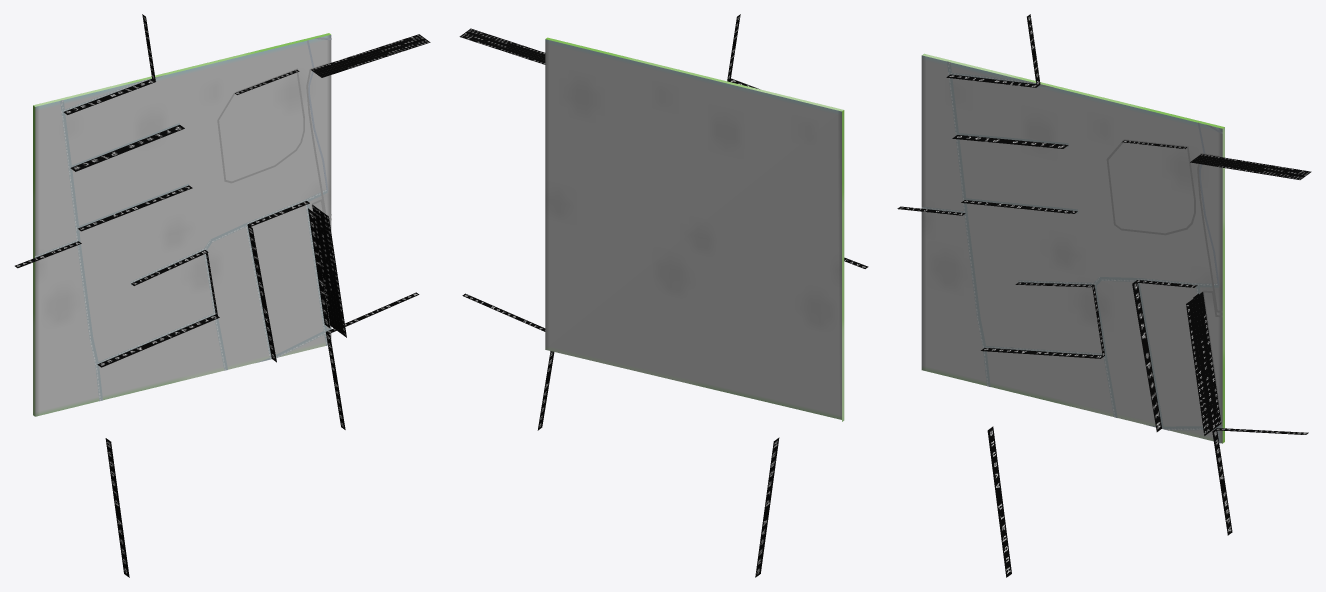
File: stamford05.gltf
3 views of the same model, side by side, from view 1: azimuth 30°, elevation 25°; view 2: azimuth 150°, elevation 25°; view 3: azimuth 330°, elevation 25° (orthographic).
Visible parts, largest first — view 1: POLYGON, FONT, POLYLINE; view 2: POLYGON, FONT; view 3: POLYGON, FONT, POLYLINE.
Boxes of the visible parts, <box> form: POLYGON: <box>33,33,331,416</box>; FONT: <box>15,14,430,577</box>; POLYLINE: <box>35,37,331,401</box>; POLYGON: <box>545,37,844,421</box>; FONT: <box>459,14,868,577</box>; POLYGON: <box>921,53,1224,443</box>; FONT: <box>897,14,1311,577</box>; POLYLINE: <box>921,61,1222,443</box>.
Bounding box in the file's own units: 835 × 1095 × 68.17.
2 materials, 2 textured.
